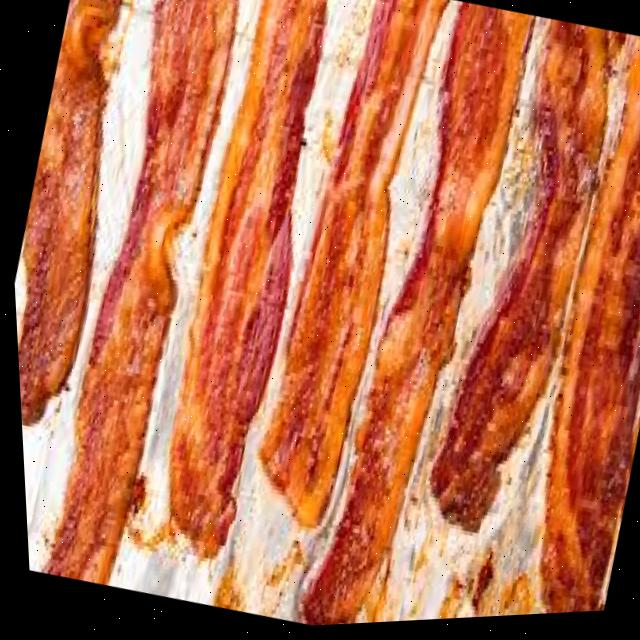Bacon: (297, 14, 530, 628), (40, 0, 235, 583), (255, 0, 446, 528), (167, 0, 330, 557), (426, 32, 606, 535), (536, 50, 640, 619), (14, 0, 122, 423)
